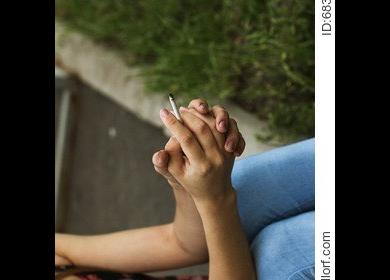Cigarette: (167, 92, 181, 123)
